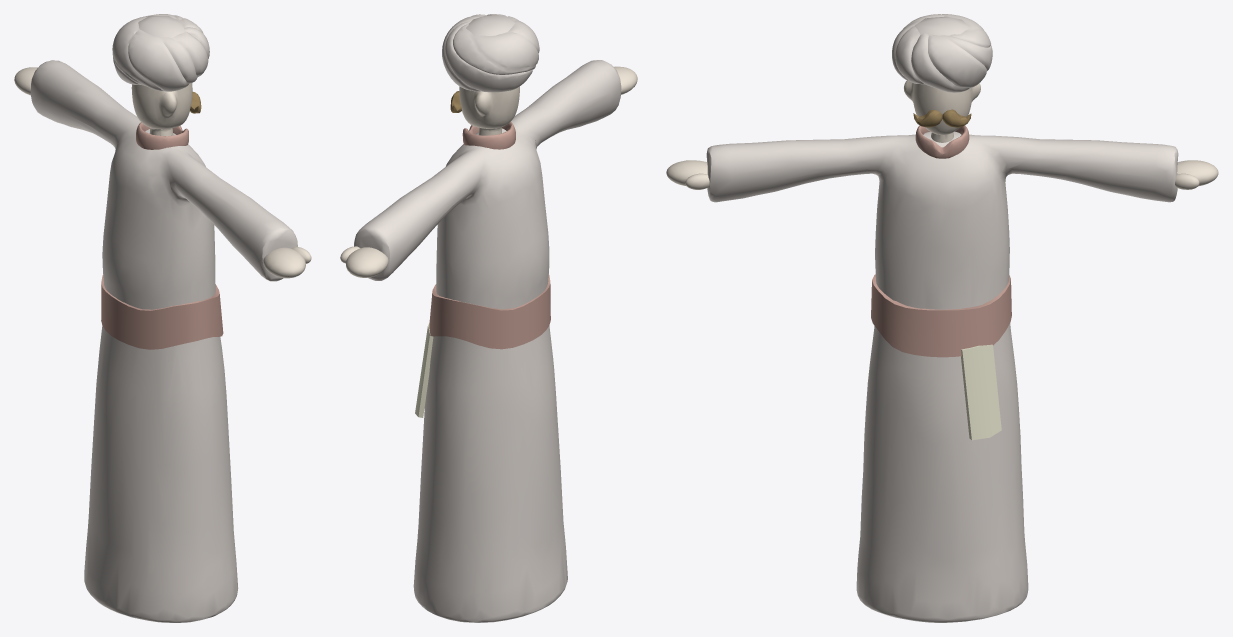
File: 商人无贴图.fbx
3 views of the same model, side by side, from view 1: azimuth 30°, elevation 25°; view 2: azimuth 150°, elevation 25°; view 3: azimuth 270°, elevation 25° (orthographic).
Visible parts, largest first — view 1: 左手, 头巾, 腰带, 头, 手, 领子, 帽子; view 2: 左手, 头巾, 腰带, 头, 手, 领子, 帽子, 腰带挂壁; view 3: 左手, 腰带, 头巾, 腰带挂壁, 头, 手, 领子, 帽子, Sphere.
Part boxes in pixels (x1,y1,x2,y2): 左手: [30, 60, 297, 622]; 头巾: [112, 14, 209, 91]; 腰带: [101, 274, 223, 349]; 头: [131, 83, 192, 136]; 手: [14, 67, 311, 278]; 领子: [136, 122, 188, 149]; 帽子: [138, 16, 186, 38]; 左手: [354, 60, 621, 622]; 头巾: [442, 14, 539, 92]; 腰带: [429, 274, 550, 349]; 头: [459, 86, 519, 135]; 手: [340, 66, 637, 277]; 领子: [462, 121, 515, 149]; 帽子: [466, 15, 515, 36]; 腰带挂壁: [415, 322, 433, 417]; 左手: [706, 131, 1178, 622]; 腰带: [871, 274, 1011, 357]; 头巾: [892, 14, 992, 92]; 腰带挂壁: [961, 344, 1001, 440]; 头: [904, 80, 980, 142]; 手: [666, 160, 1218, 189]; 领子: [915, 125, 969, 158]; 帽子: [914, 16, 971, 35]; Sphere: [913, 109, 971, 127].
Bounding box in the file's own units: 272 × 1182 × 1027.
